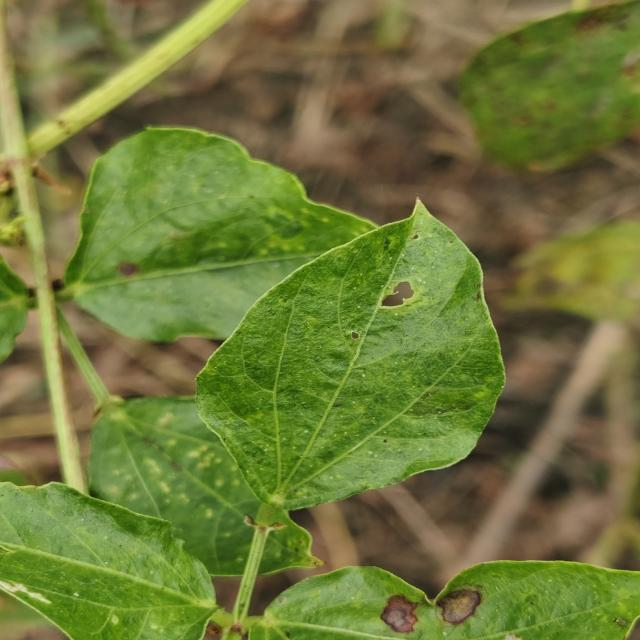leaf-low: (0, 482, 218, 640)
sitaw-aphid-high: (196, 204, 505, 510), (64, 127, 375, 341), (436, 561, 640, 640), (249, 566, 448, 640)
sitaw-aphid-low: (88, 397, 264, 576), (458, 0, 640, 173), (258, 508, 323, 575)
